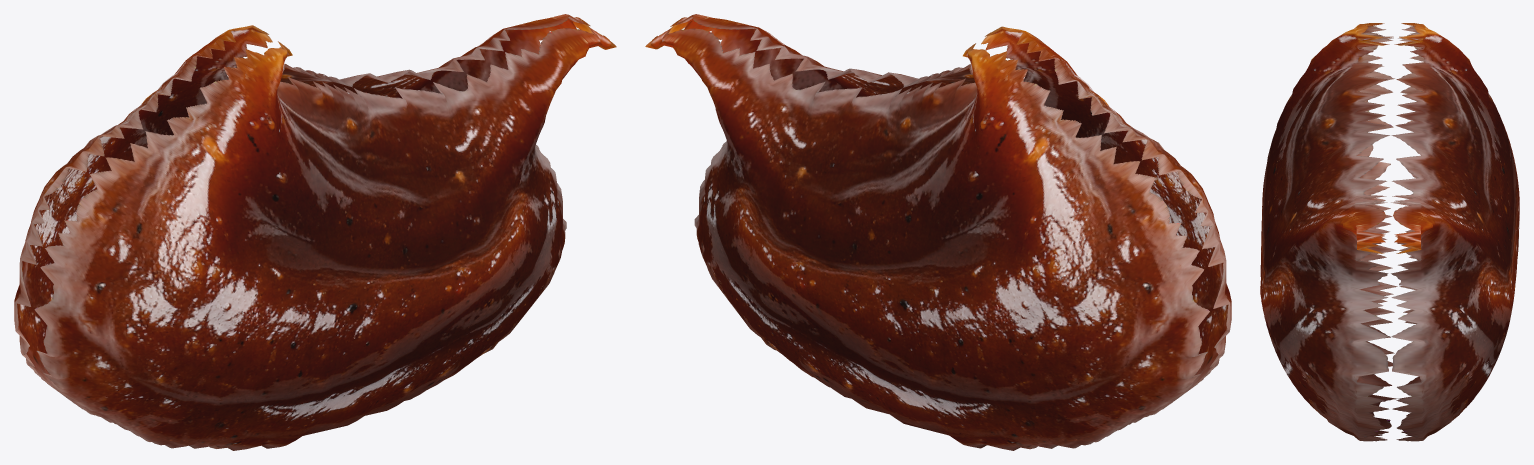
Rendered from salsa-smash.glb.
3 renders of one model, left to right at view 1: azimuth 30°, elevation 25°; view 2: azimuth 150°, elevation 25°; view 3: azimuth 270°, elevation 25°, orthographic. The views are drawn at different scales.
Visible parts, largest first — view 1: salsa-smash; view 2: salsa-smash; view 3: salsa-smash.
Boxes of the visible parts, left/top/right/bottom form: salsa-smash: left=14, top=14, right=616, bottom=450; salsa-smash: left=645, top=14, right=1231, bottom=450; salsa-smash: left=1260, top=23, right=1519, bottom=441.
Bounding box in the file's own units: 1.98 × 1.35 × 0.8489.
Materials: 1 (1 with a texture image).
